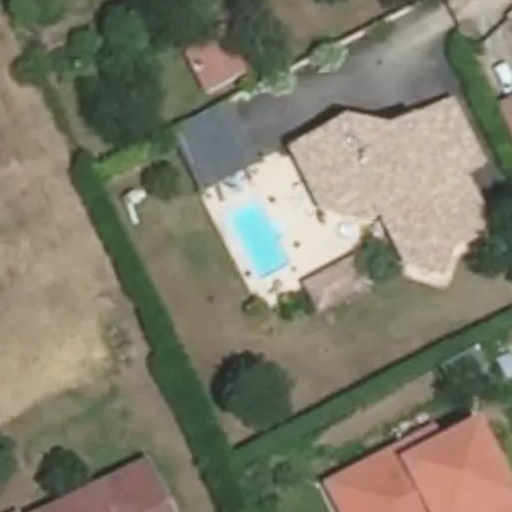pool: (229, 198, 293, 279)
